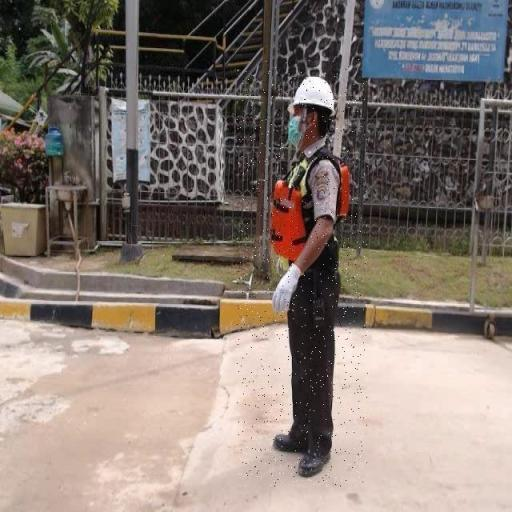Boots: (296, 440, 331, 478), (270, 428, 312, 455)
Helmet: (285, 74, 335, 116)
Person: (237, 59, 368, 487)
